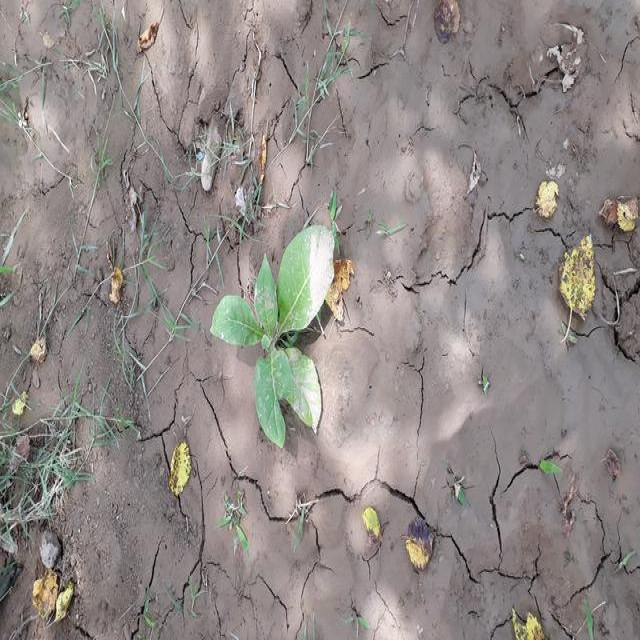crop: (204, 219, 350, 454)
